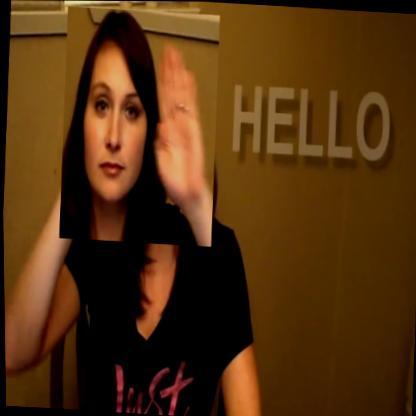Hello: (55, 6, 222, 247)
